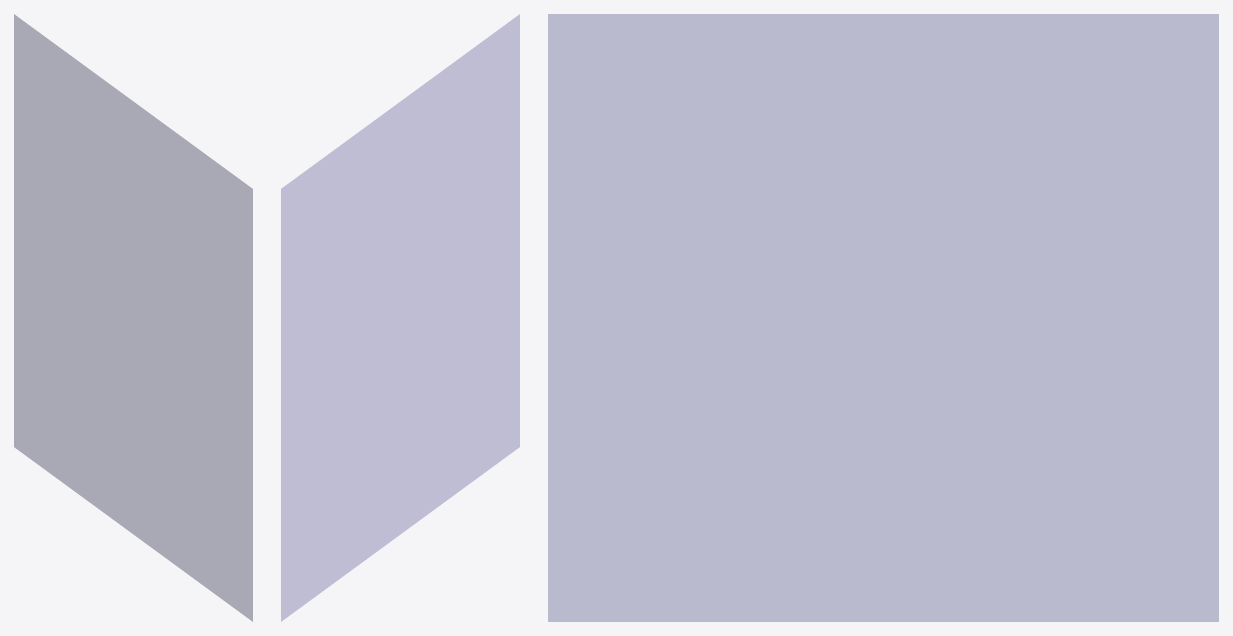
The model's file is curtain.glb.
The picture shows the model from 3 angles, left to right: view 1: azimuth 30°, elevation 25°; view 2: azimuth 150°, elevation 25°; view 3: azimuth 270°, elevation 25°; orthographic projection. The views are drawn at different scales.
Parts seen in each view (by area): view 1: Plane.001; view 2: Plane.001; view 3: Plane.001.
Part boxes in pixels (box(x1,y1,x2,y2)): Plane.001: box(14, 14, 252, 621); Plane.001: box(281, 14, 519, 621); Plane.001: box(548, 14, 1218, 621).
Size of the model in its own units: 1.11e-15 by 5 by 5.
